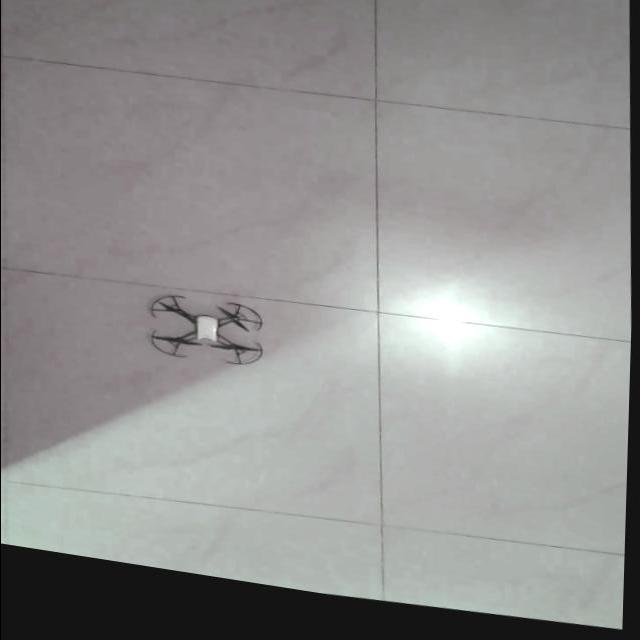drone: (152, 308, 267, 377)
